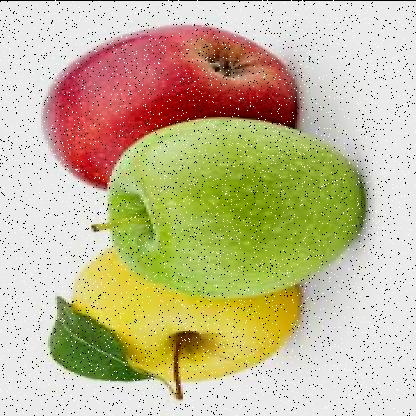apple: (41, 20, 304, 186), (110, 119, 356, 289), (66, 240, 294, 378)
